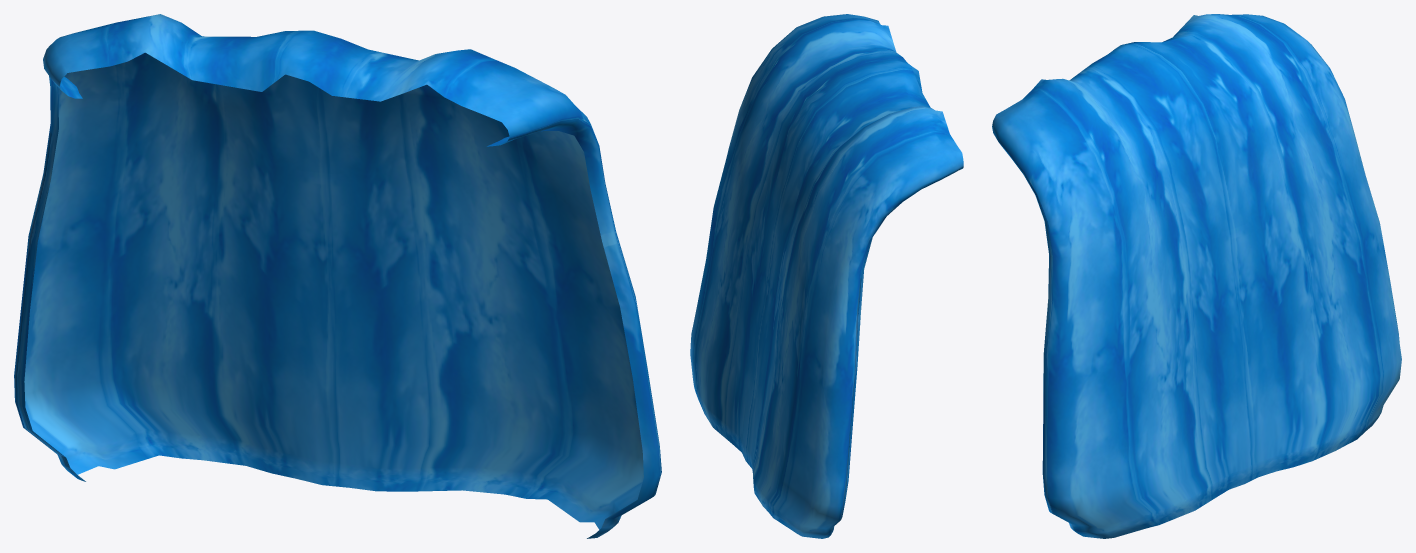
Rendered from WatervalMesh2.fbx.
3 views of the same model, side by side, from view 1: azimuth 30°, elevation 25°; view 2: azimuth 150°, elevation 25°; view 3: azimuth 270°, elevation 25° (orthographic). The views are drawn at different scales.
Parts seen in each view (by area): view 1: WatervalPlane; view 2: WatervalPlane; view 3: WatervalPlane.
Part boxes in pixels (x1=…): WatervalPlane: x1=14, y1=14, x2=661, y2=538; WatervalPlane: x1=690, y1=14, x2=963, y2=538; WatervalPlane: x1=992, y1=14, x2=1401, y2=538.
Bounding box in the file's own units: 40.81 × 43.13 × 40.83.
1 material, 1 textured.
